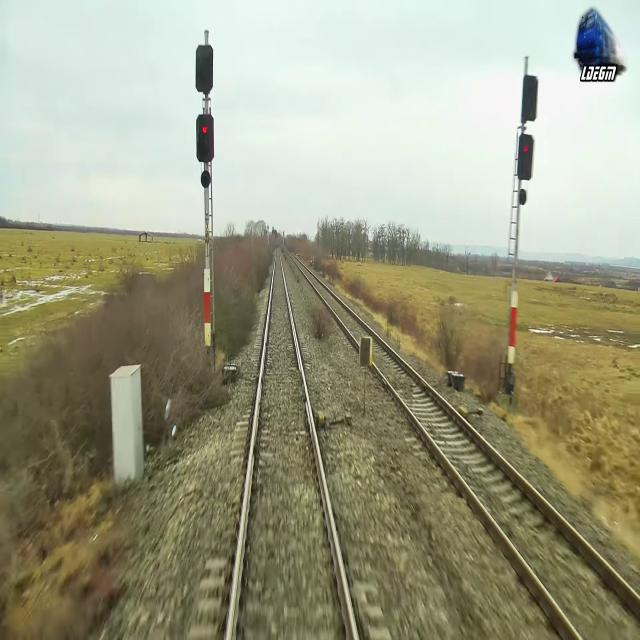rail-track: (287, 250, 640, 639), (231, 249, 352, 639)
